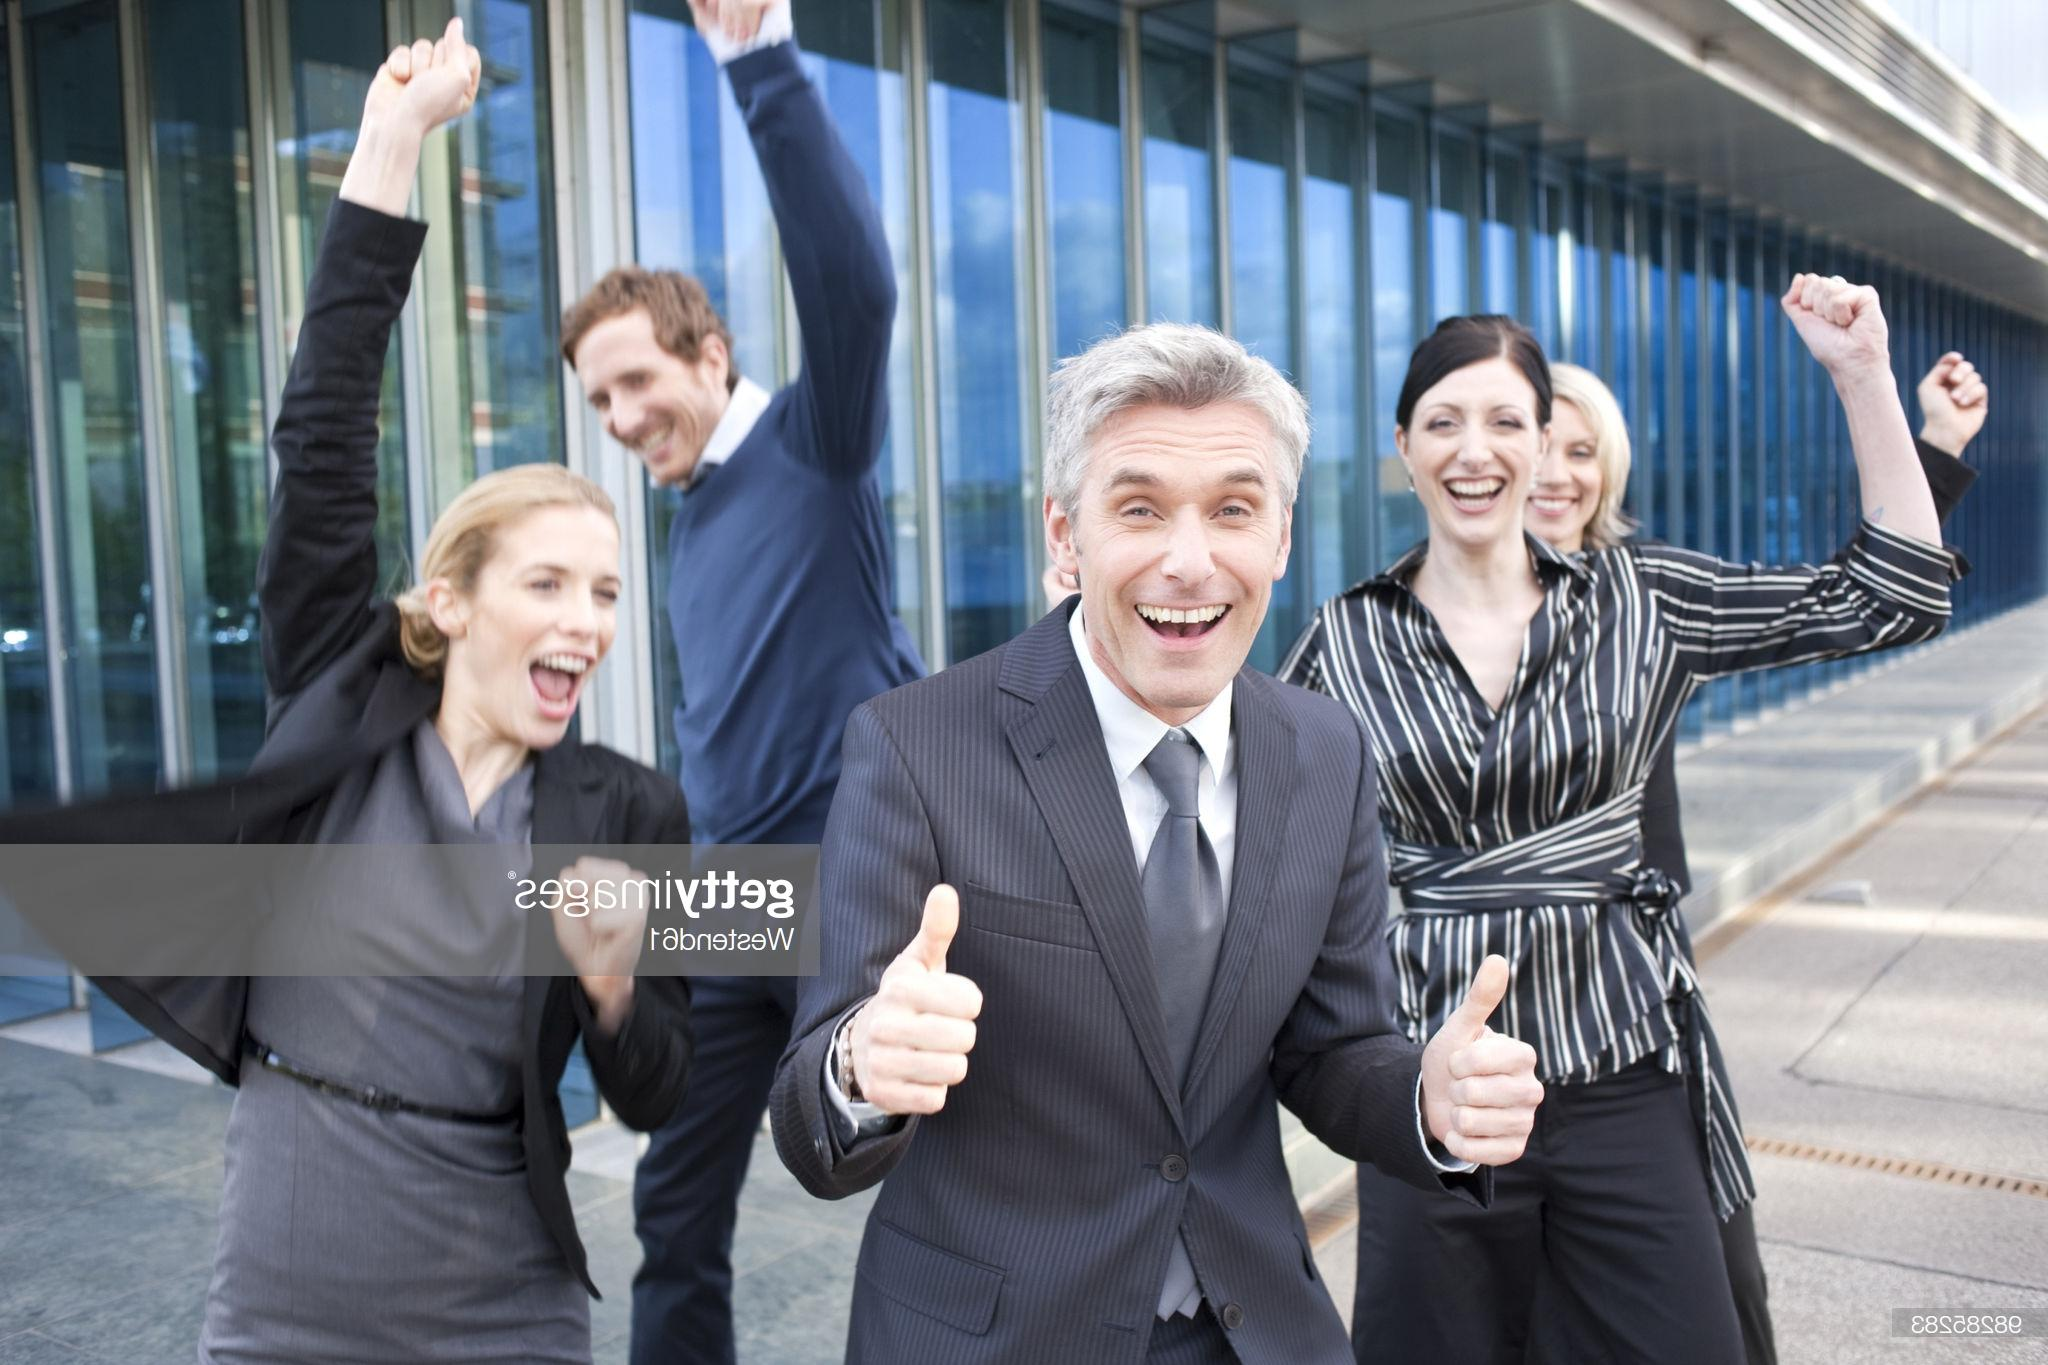thumbsup: (862, 884, 984, 1114), (1443, 954, 1546, 1165)
